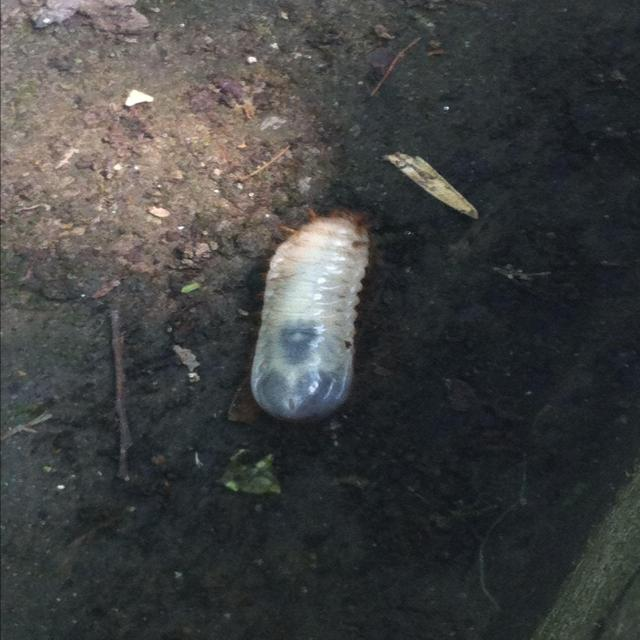grub: (246, 205, 385, 427)
